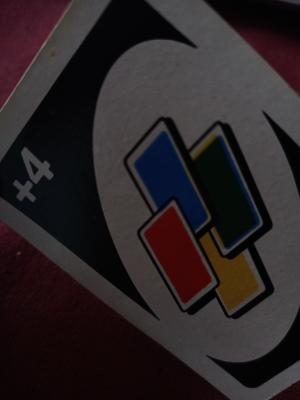wild-4: (3, 0, 300, 400)
